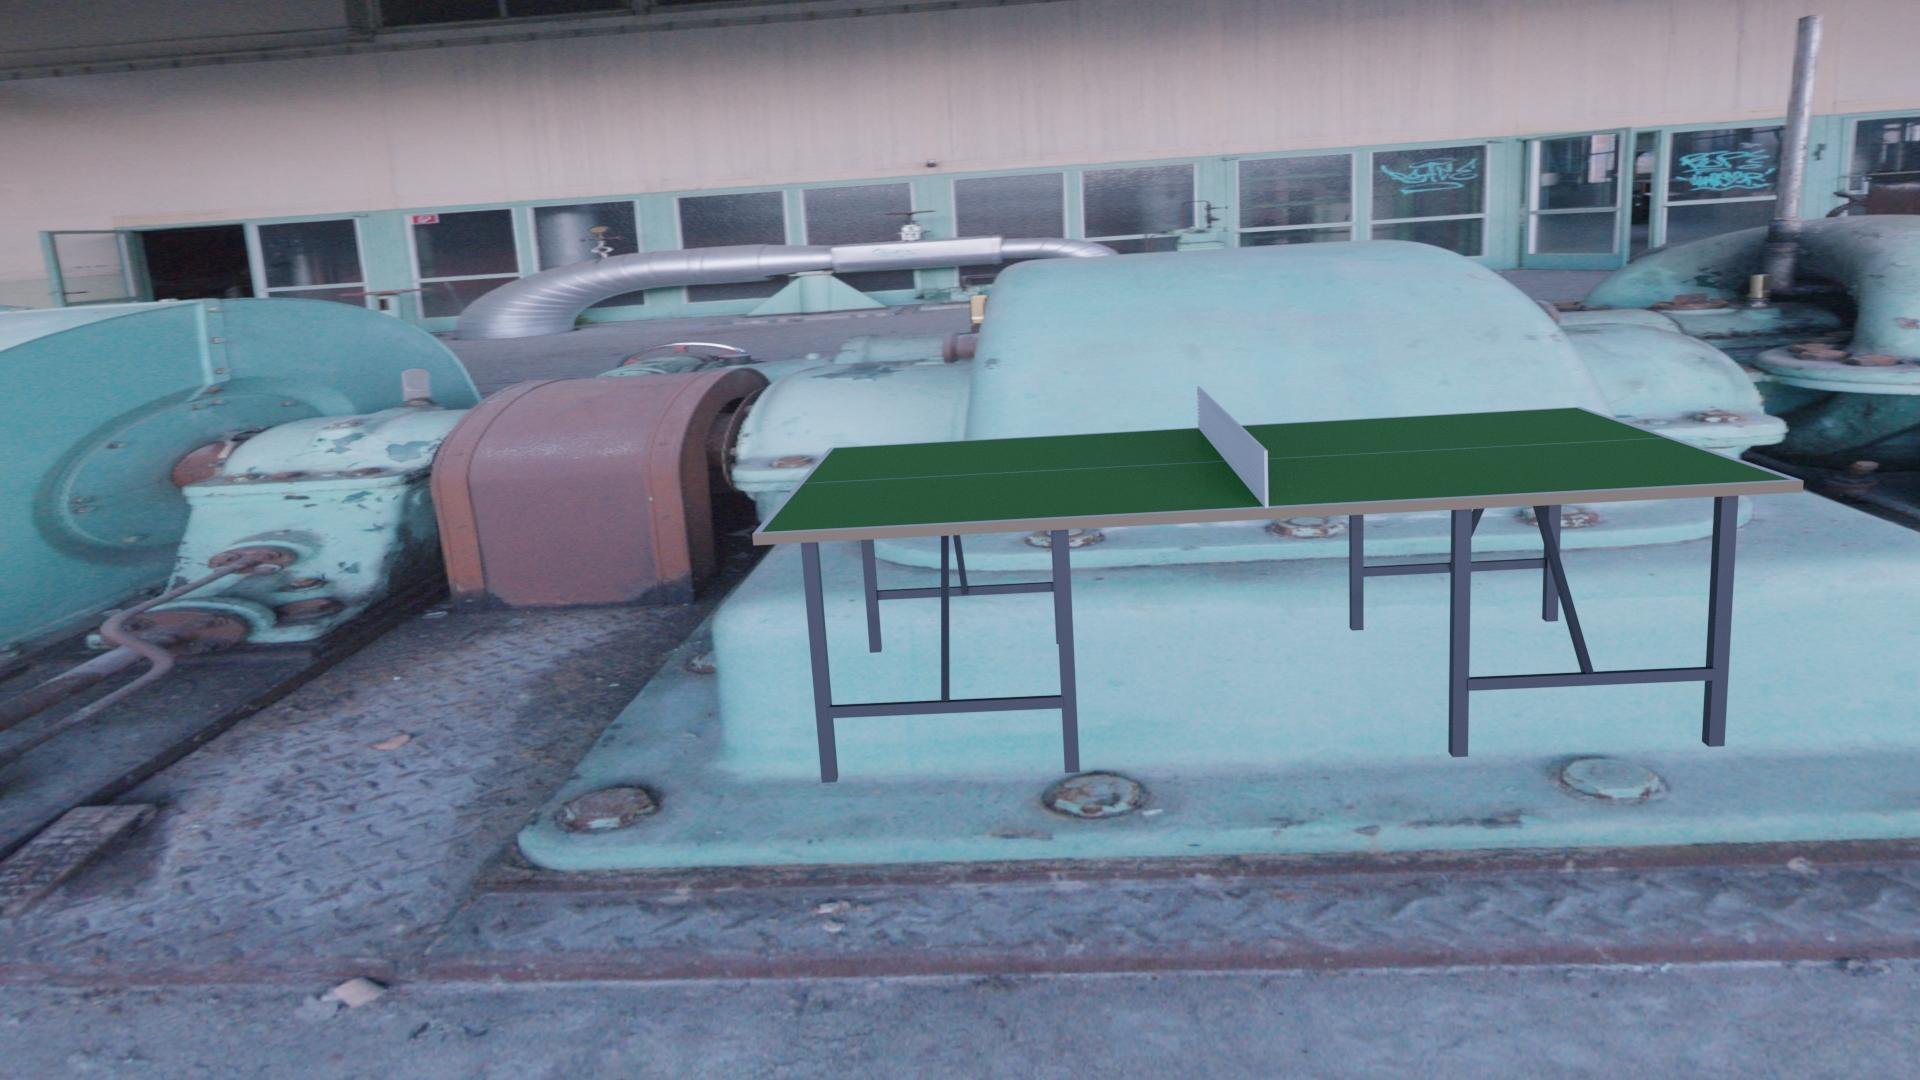table: (761, 407, 1792, 533)
